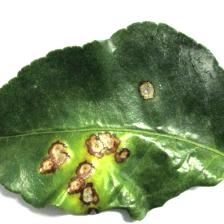canker: (32, 64, 162, 224)
